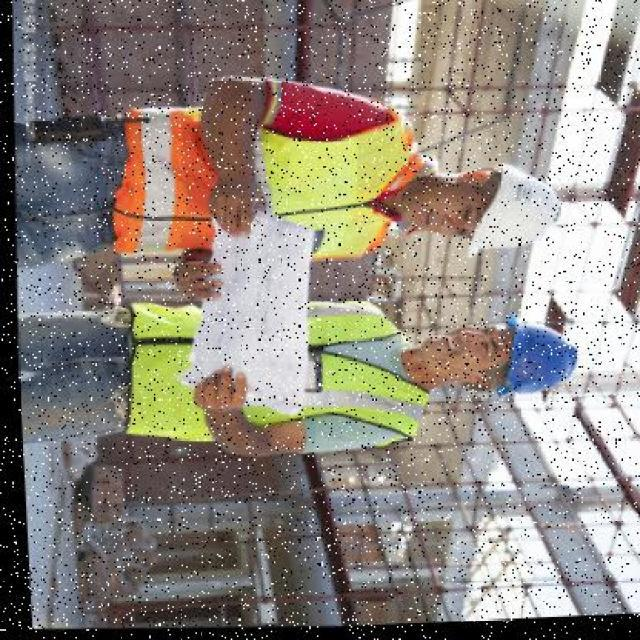helmet: (440, 154, 571, 280), (477, 314, 582, 442)
vest: (91, 83, 425, 308), (111, 274, 423, 471)
